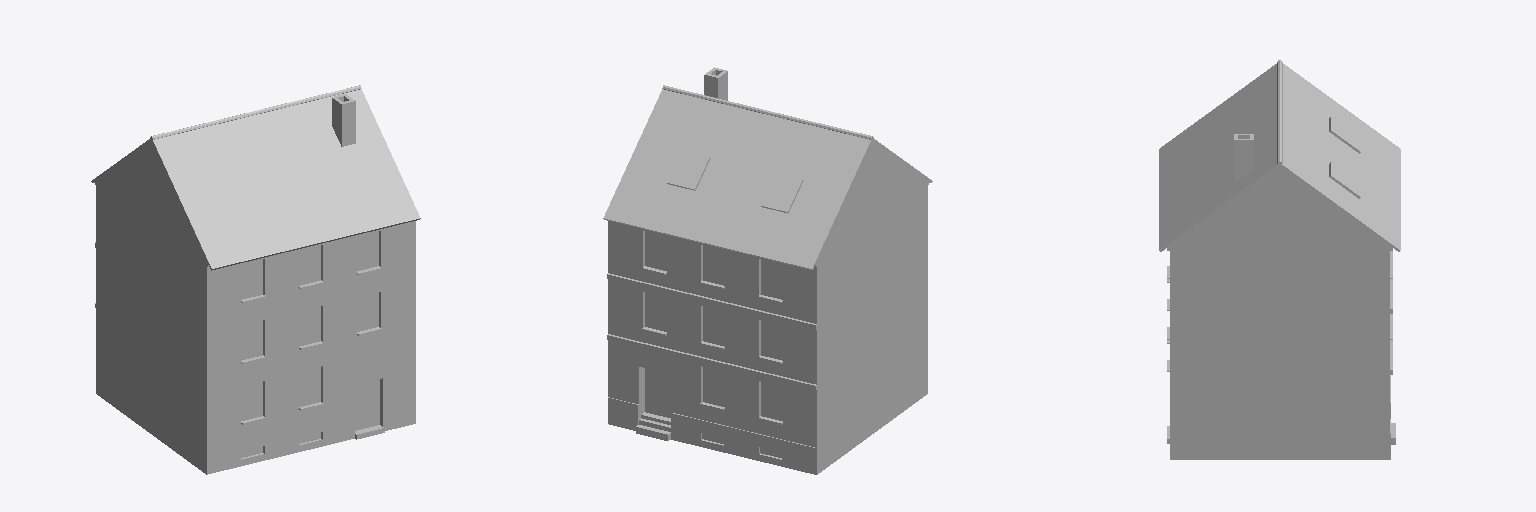
File: house.obj
3 renders of one model, left to right at view 1: azimuth 30°, elevation 25°; view 2: azimuth 150°, elevation 25°; view 3: azimuth 270°, elevation 25°, orthographic.
Visible parts, largest first — view 1: 462FX7I381SPWE7K8P2J5LE08; view 2: 462FX7I381SPWE7K8P2J5LE08; view 3: 462FX7I381SPWE7K8P2J5LE08.
Boxes of the visible parts, x1,y1,x2,y2 form: 462FX7I381SPWE7K8P2J5LE08: [91, 85, 420, 474]; 462FX7I381SPWE7K8P2J5LE08: [603, 67, 932, 474]; 462FX7I381SPWE7K8P2J5LE08: [1159, 60, 1400, 459].
Bounding box in the file's own units: 1.79 × 2.5 × 1.79.